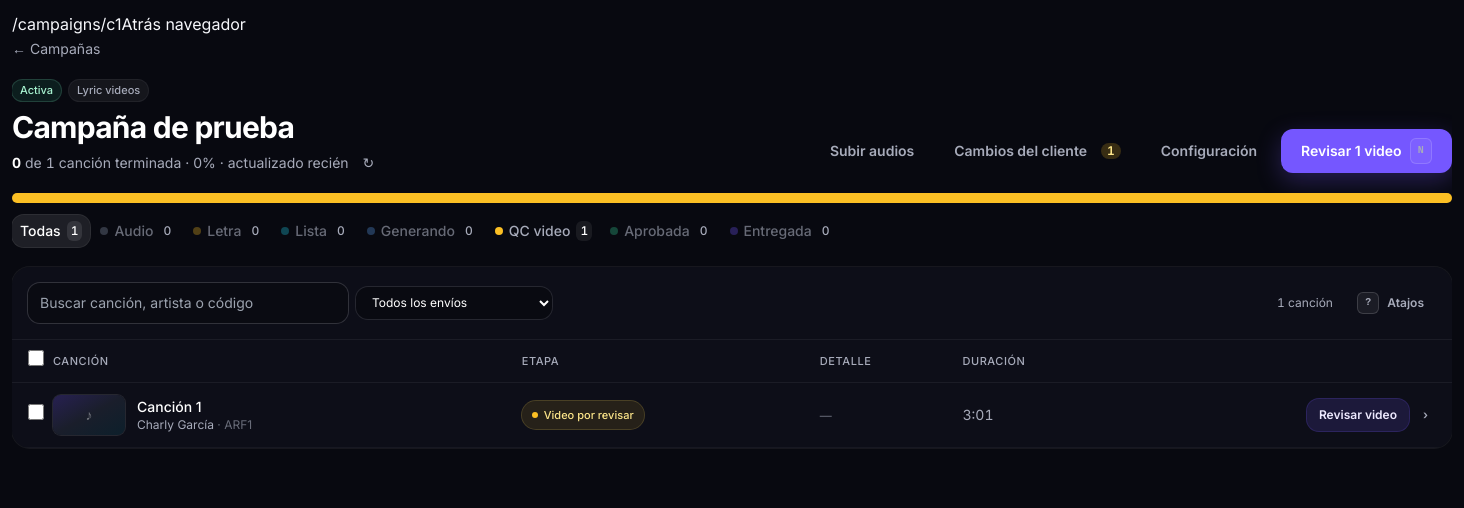
Test: campaign workspace › offers the client changes inbox only when the backend enables it and opens it as its own view
Check: the button "Canción 1" is shown, box [137,396,202,416]
Click the button "Cambios del cliente 1" at (1038, 150), box [938,130,1137,170]
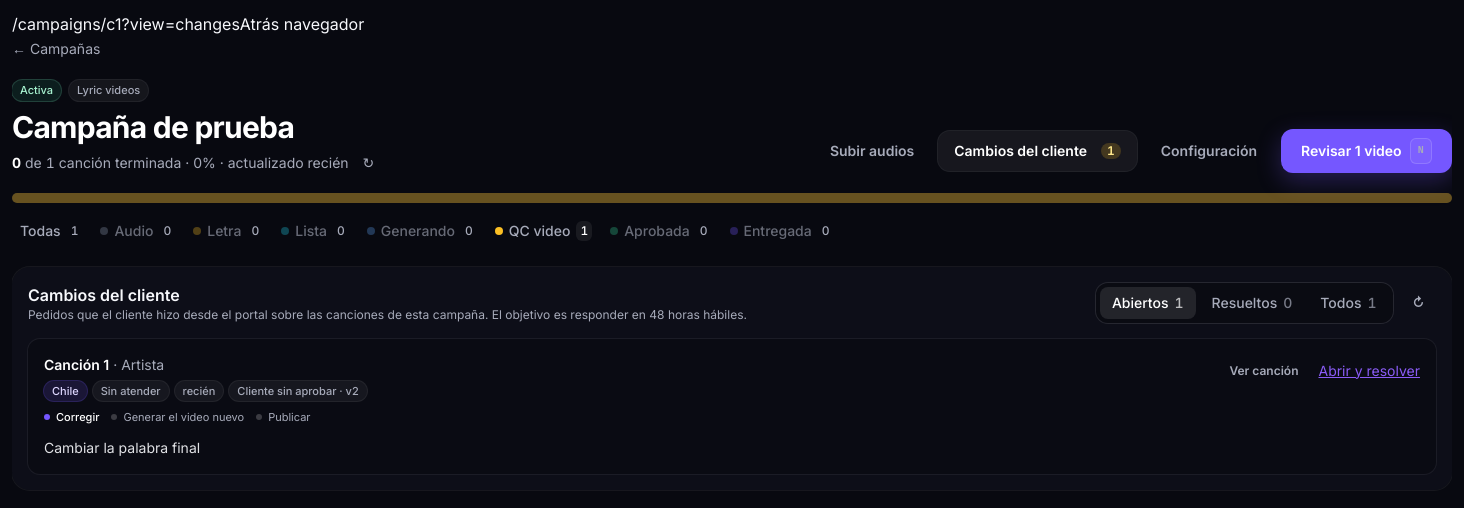
Check: the text "Cambiar la palabra final" is shown, box [44,438,200,456]
Check: the text with test id "location" shows "view=changes", box [122,14,240,34]
Click the button "Ver canción" at (1264, 370), box [1217,354,1310,386]
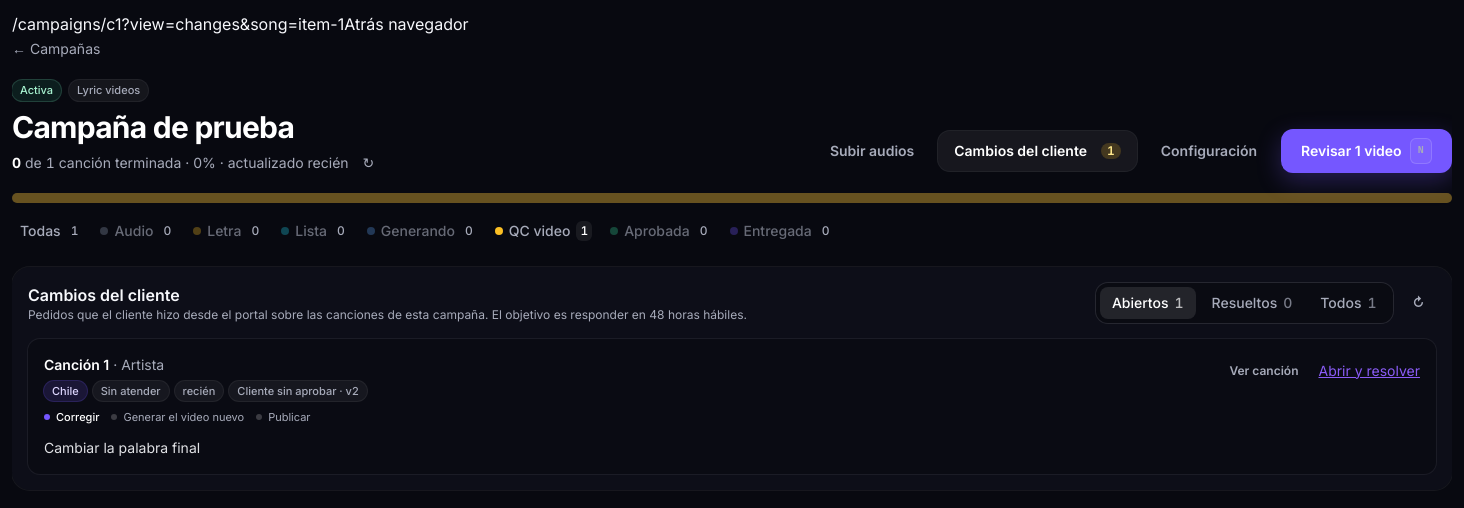
Check: the text with test id "location" shows "song=item-1", box [122,14,344,34]
